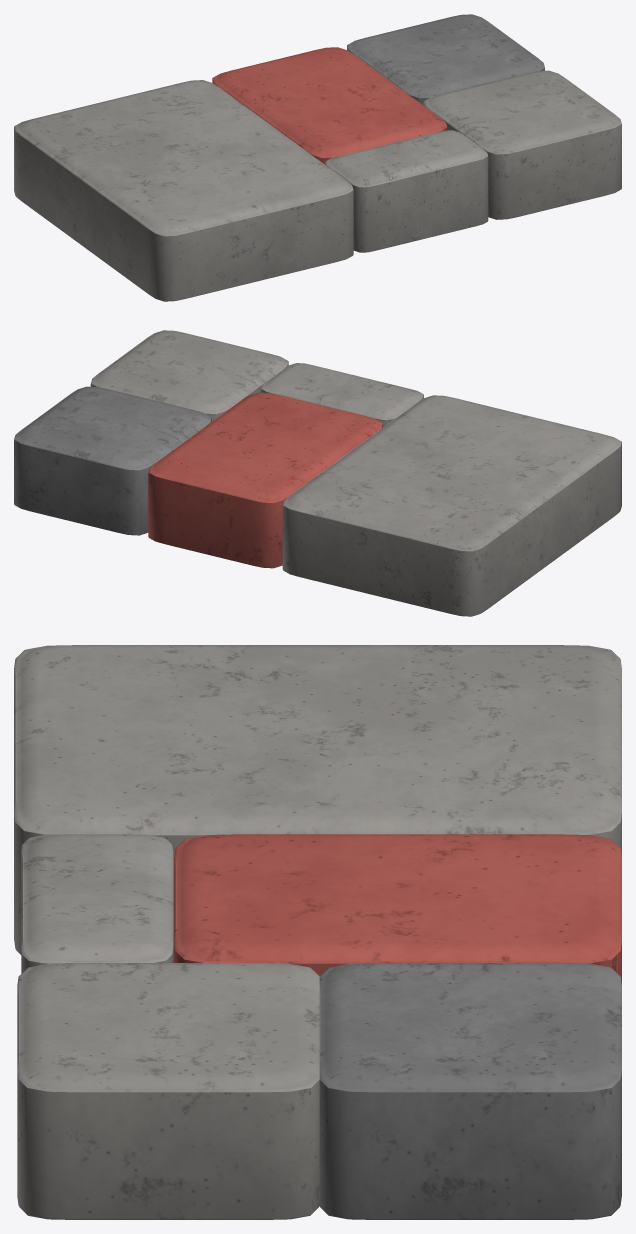
File: random.glb
3 views of the same model, one above another, from view 1: azimuth 30°, elevation 25°; view 2: azimuth 150°, elevation 25°; view 3: azimuth 270°, elevation 25° (orthographic). The views are drawn at different scales.
Visible parts, largest first — view 1: Cobble Mix Dobule.001, Cobble Mix Square.002, Cobble Mix Regular.001, Cobble Mix Half.001, Cobble Mix Square.001; view 2: Cobble Mix Dobule.001, Cobble Mix Regular.001, Cobble Mix Square.001, Cobble Mix Square.002, Cobble Mix Half.001; view 3: Cobble Mix Dobule.001, Cobble Mix Square.001, Cobble Mix Square.002, Cobble Mix Regular.001, Cobble Mix Half.001.
Part boxes in pixels (x1=…): Cobble Mix Dobule.001: x1=14, y1=80, x2=353, y2=301; Cobble Mix Square.002: x1=423, y1=70, x2=621, y2=219; Cobble Mix Regular.001: x1=212, y1=47, x2=447, y2=164; Cobble Mix Half.001: x1=325, y1=130, x2=488, y2=252; Cobble Mix Square.001: x1=347, y1=14, x2=544, y2=105; Cobble Mix Dobule.001: x1=282, y1=395, x2=621, y2=616; Cobble Mix Regular.001: x1=148, y1=392, x2=382, y2=568; Cobble Mix Square.001: x1=14, y1=386, x2=211, y2=535; Cobble Mix Square.002: x1=90, y1=330, x2=288, y2=421; Cobble Mix Half.001: x1=261, y1=363, x2=423, y2=427; Cobble Mix Dobule.001: x1=14, y1=645, x2=621, y2=962; Cobble Mix Square.001: x1=319, y1=963, x2=621, y2=1219; Cobble Mix Square.002: x1=17, y1=963, x2=319, y2=1219; Cobble Mix Regular.001: x1=174, y1=834, x2=621, y2=984; Cobble Mix Half.001: x1=21, y1=834, x2=173, y2=973.
Bounding box in the file's own units: 0.4191 × 0.0603 × 0.2413.
3 materials, 3 textured.
